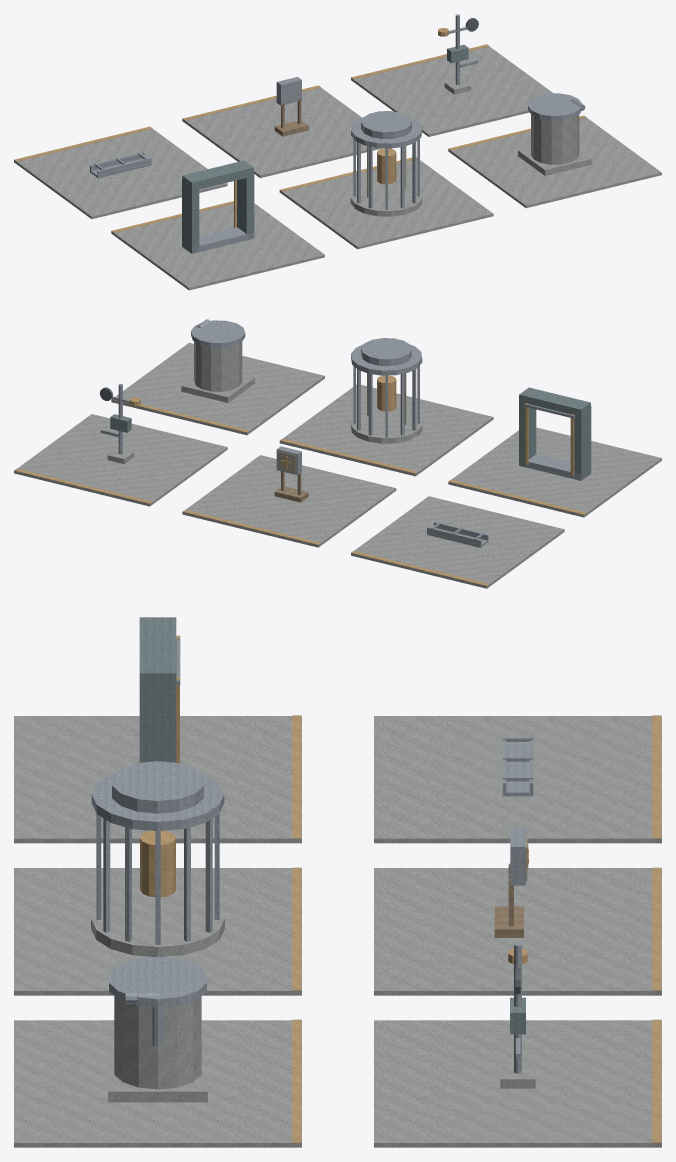
File: level_blockout_kit_wld_14_p02.glb
3 renders of one model, top to bottom at view 1: azimuth 30°, elevation 25°; view 2: azimuth 150°, elevation 25°; view 3: azimuth 270°, elevation 25°, orthographic. The views are drawn at different scales.
Parts seen in each view (by area): view 1: level_blockout_kit_wld_14_p02; view 2: level_blockout_kit_wld_14_p02; view 3: level_blockout_kit_wld_14_p02.
Part boxes in pixels (<box>): level_blockout_kit_wld_14_p02: <box>14,14,661,290</box>; level_blockout_kit_wld_14_p02: <box>14,319,661,588</box>; level_blockout_kit_wld_14_p02: <box>14,617,661,1147</box>.
Size of the model in its own units: 19.65 by 3.28 by 12.6.
7 materials, 7 textured.
